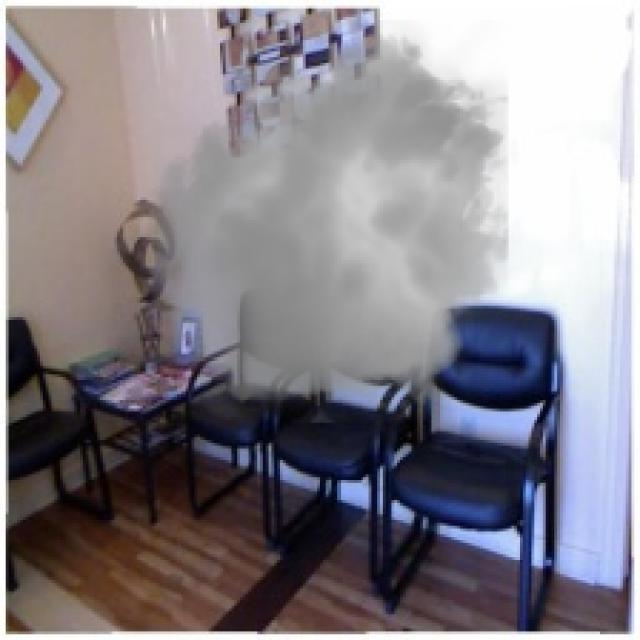Smoke: (140, 20, 526, 423)
